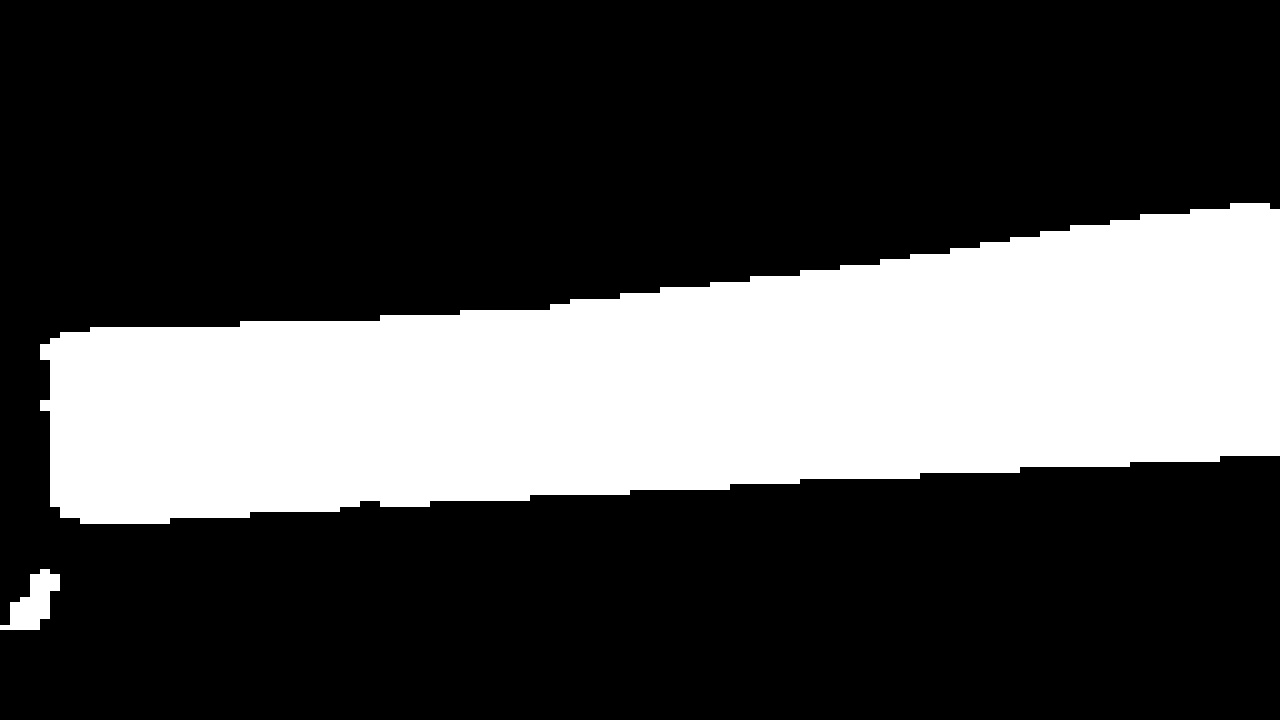Turbine: (28, 188, 1264, 545)
